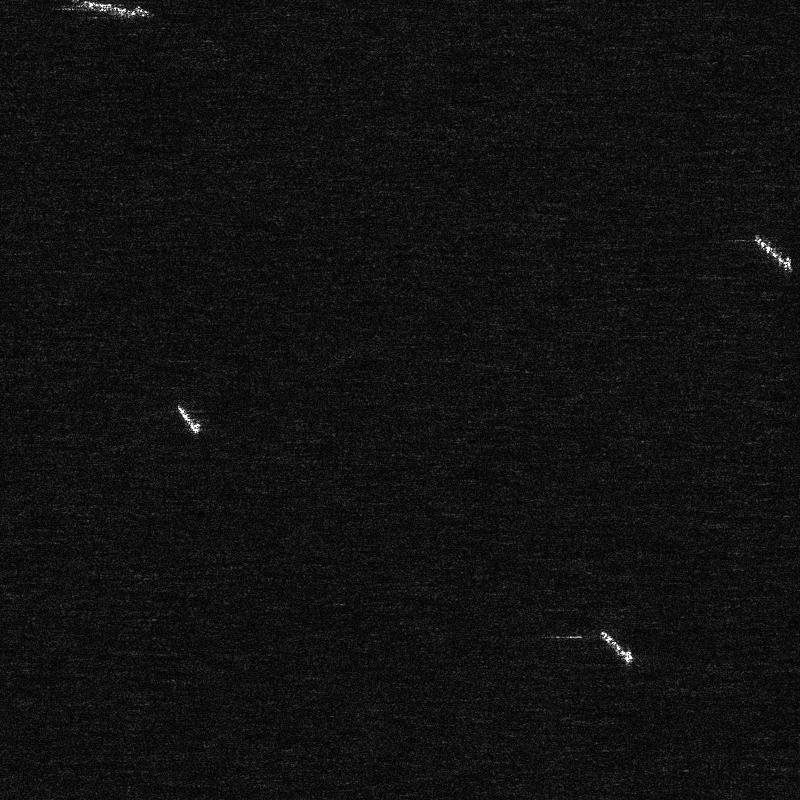ship: (71, 0, 149, 18), (754, 235, 792, 270), (599, 631, 632, 663), (176, 404, 200, 433)
